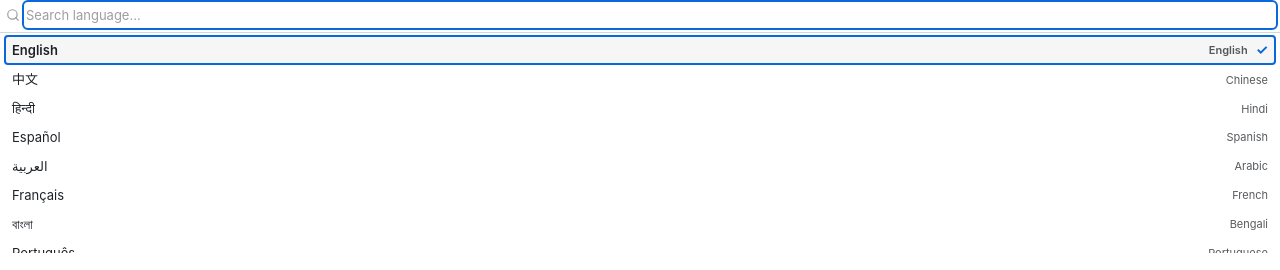
Test: LanguagePicker › filtering › filters by English label (case-insensitive)
Type "German" into the dropdown labelled "Search language" at (650, 15), box [26, 4, 1274, 26]
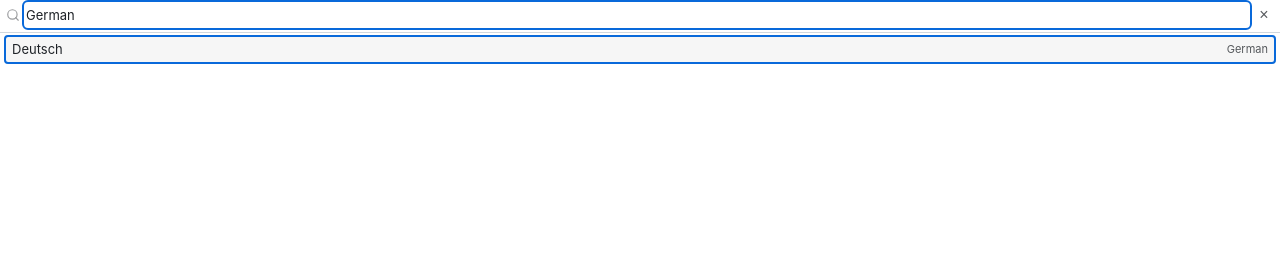
Expected: the number of options is 1, [4, 35, 1276, 64]
Expected: the option shows "Deutsch", [4, 35, 1276, 64]
